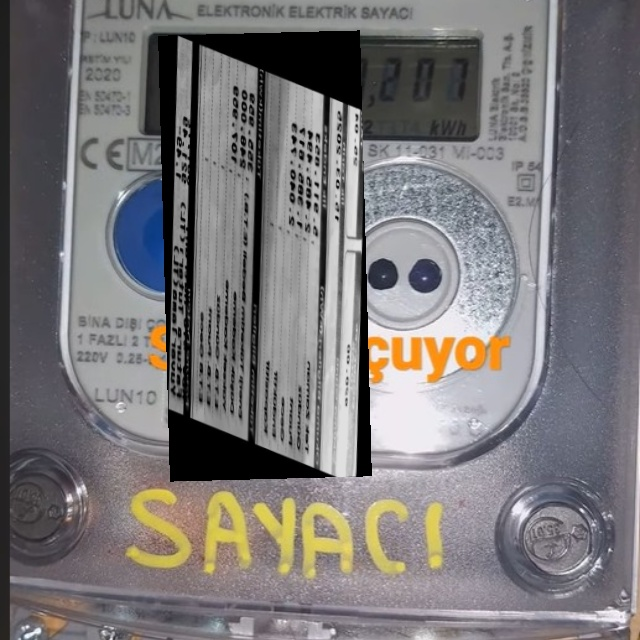electricity-bill: (157, 30, 371, 482)
